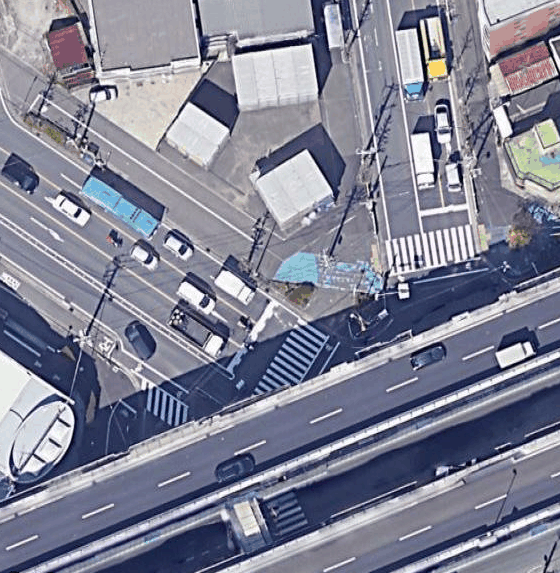rooftop: (505, 117, 558, 190)
